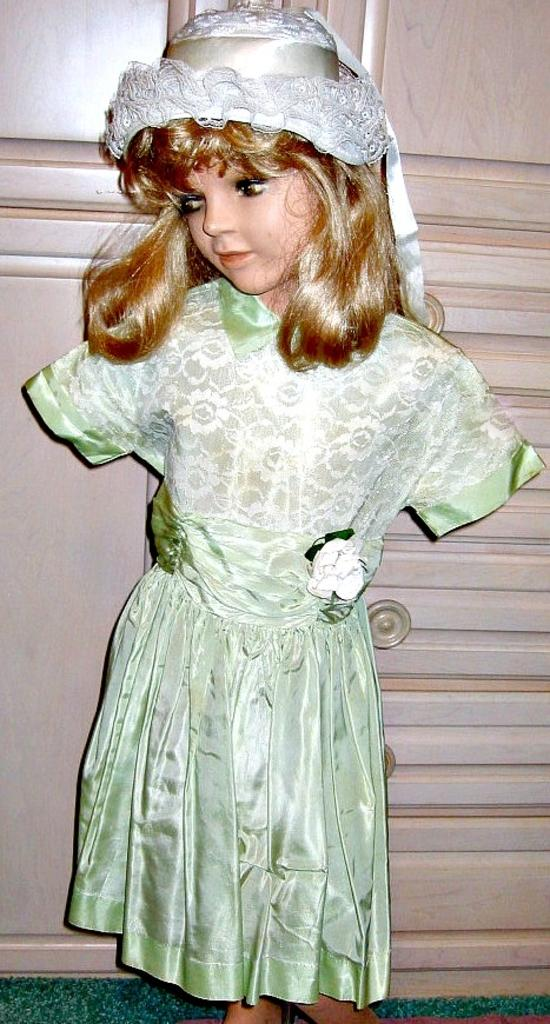Hat: (104, 0, 394, 164)
